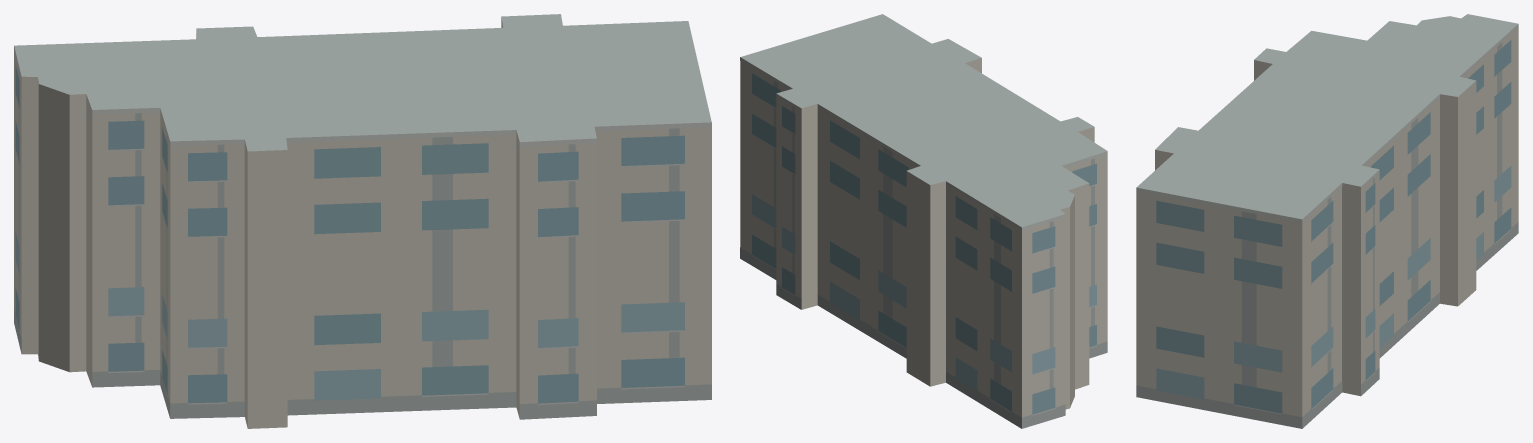
File: survey-upis-32806019.glb
3 renders of one model, left to right at view 1: azimuth 30°, elevation 25°; view 2: azimuth 150°, elevation 25°; view 3: azimuth 270°, elevation 25°, orthographic. The views are drawn at different scales.
Parts seen in each view (by area): view 1: survey-upis-32806019.tmp; view 2: survey-upis-32806019.tmp; view 3: survey-upis-32806019.tmp.
Part boxes in pixels (x1,y1,x2,y2): survey-upis-32806019.tmp: (14,14,711,428); survey-upis-32806019.tmp: (740,14,1107,428); survey-upis-32806019.tmp: (1136,14,1518,428).
Bounding box in the file's own units: 30.28 × 14.4 × 23.82.
